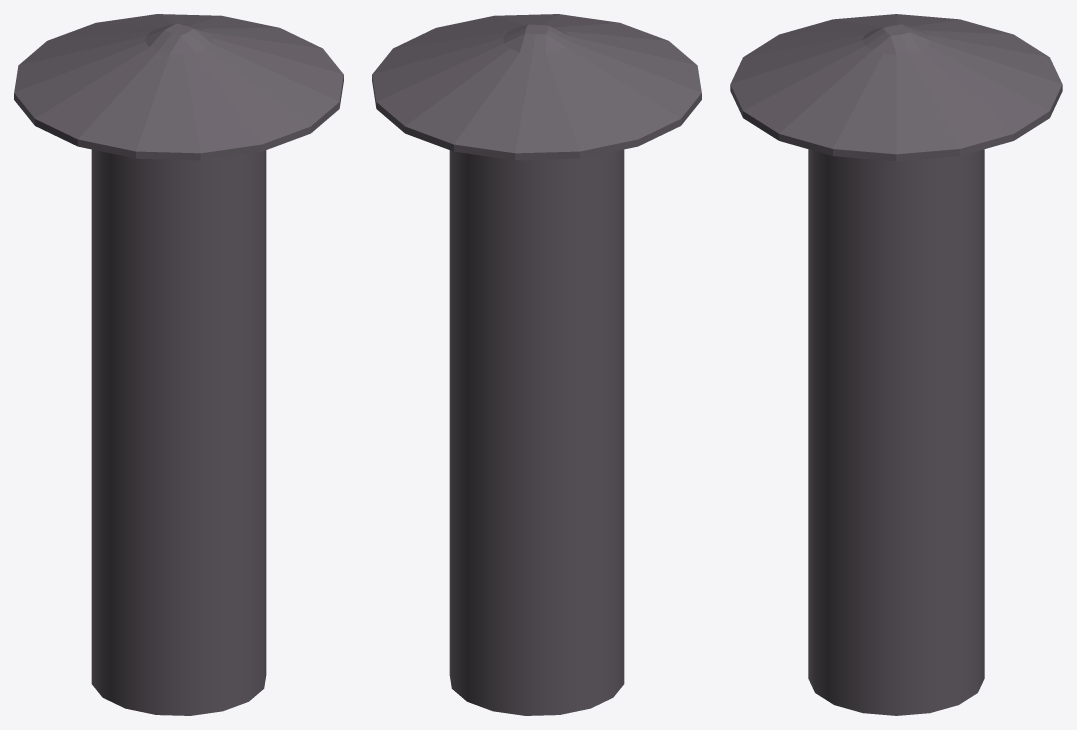
The model's file is SM_chimney_metal_01.fbx.
3 renders of one model, left to right at view 1: azimuth 30°, elevation 25°; view 2: azimuth 150°, elevation 25°; view 3: azimuth 270°, elevation 25°, orthographic.
Parts seen in each view (by area): view 1: chimney_metal_01; view 2: chimney_metal_01; view 3: chimney_metal_01.
Boxes of the visible parts, <box> form: chimney_metal_01: <box>14,14,343,715</box>; chimney_metal_01: <box>372,14,701,715</box>; chimney_metal_01: <box>730,14,1062,715</box>.
Bounding box in the file's own units: 40.17 × 86.56 × 40.17.
